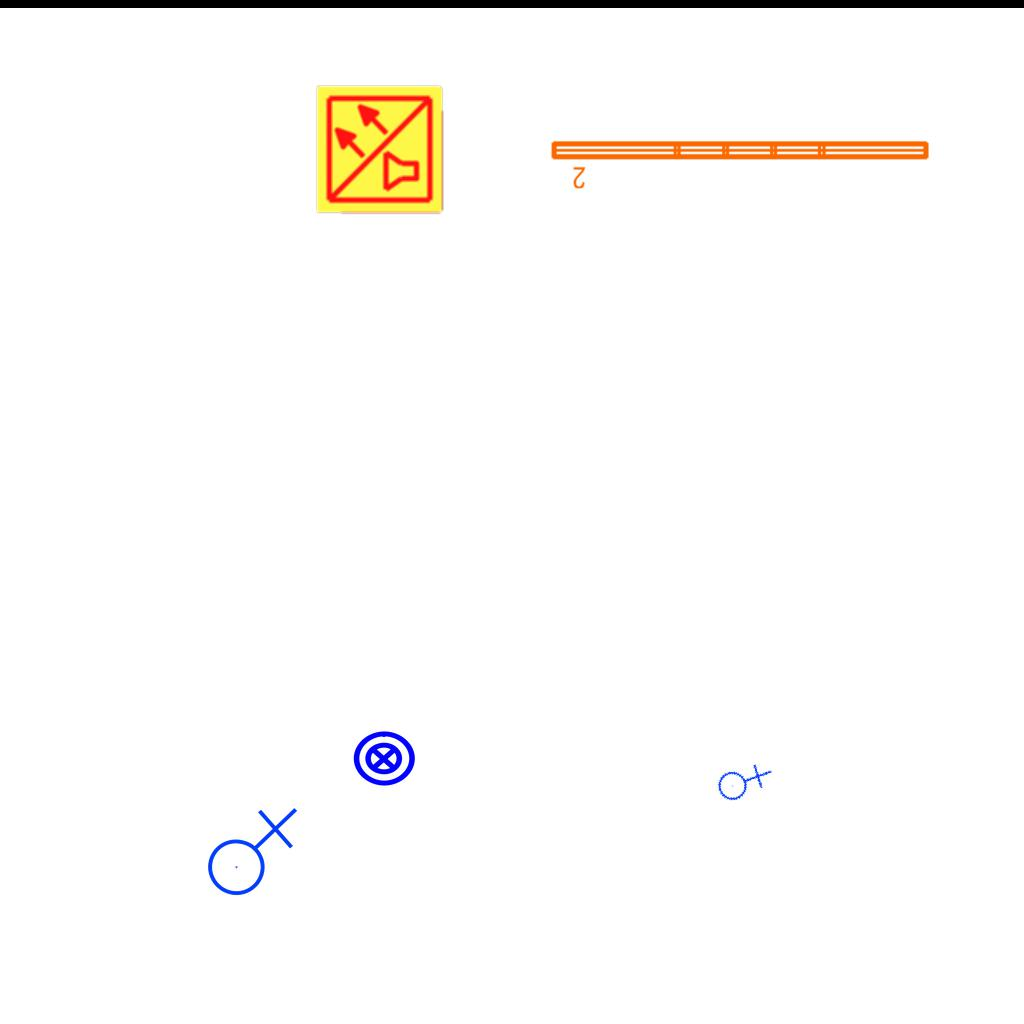Ambulanz_Pendelleuchte_LED: (547, 135, 934, 191)
Elektroanschluss_allgemein_230V_Geraeteanschlussdose_230V: (199, 803, 298, 897), (709, 749, 774, 812)
OKW_Multisensormelder_(Kombination_optischer_Rauch-Kahlenmonoxid_Waerme-Melder): (314, 83, 446, 215)
Taster_beleuchtet: (351, 726, 417, 792)
